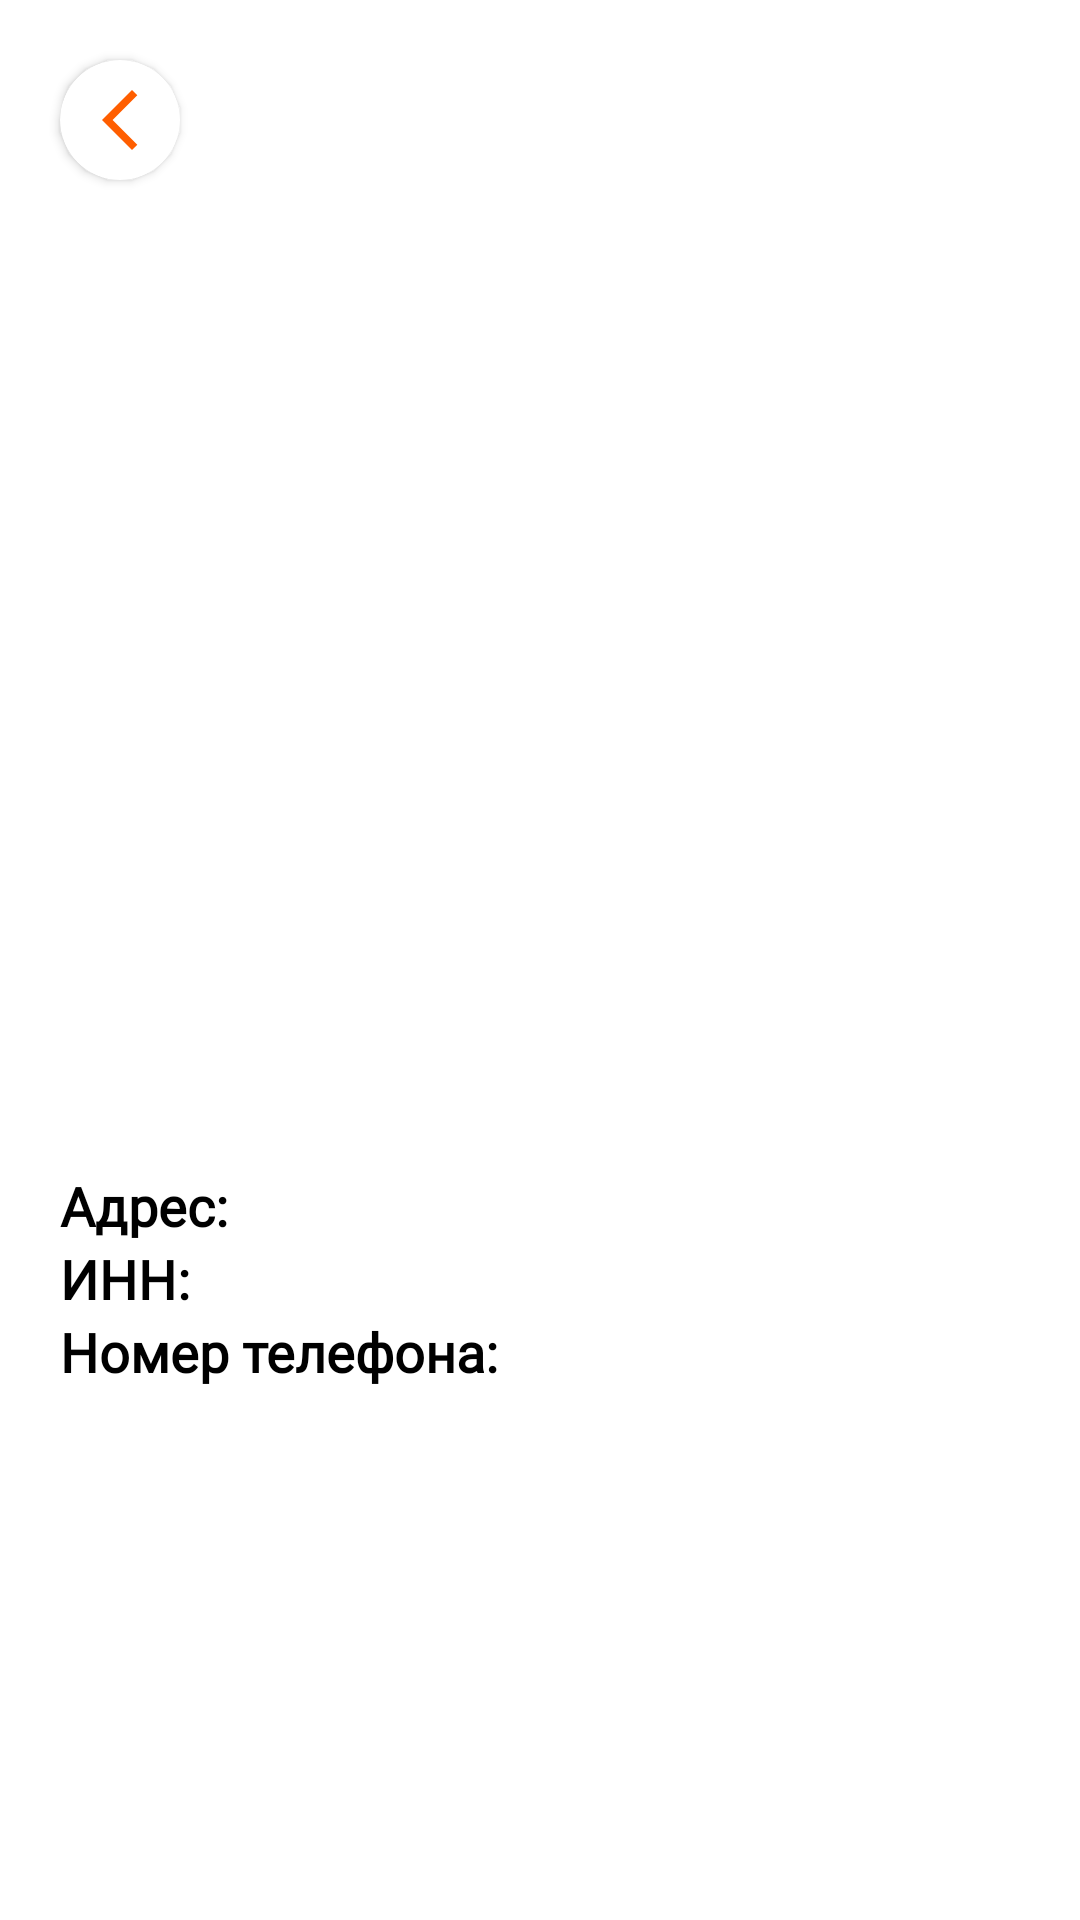

Screen size 1080 x 1920. Icon name, then its box in pixels as detection(x1, y1, x2, y2):
back: detection(102, 90, 137, 150)
